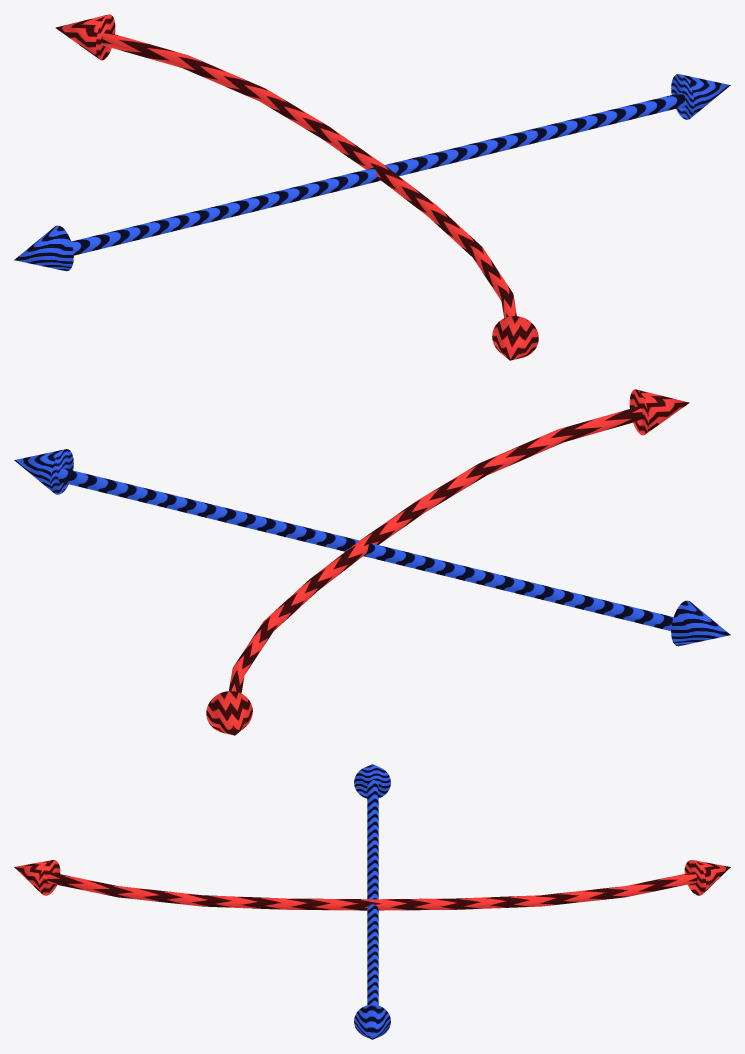
File: Spotlight_RedArrow_Lat.glb
The picture shows the model from 3 angles, top to bottom: view 1: azimuth 30°, elevation 25°; view 2: azimuth 150°, elevation 25°; view 3: azimuth 270°, elevation 25°; orthographic projection. The views are drawn at different scales.
Visible parts, largest first — view 1: Cylinder.041, Cylinder.012, Cone.021, Cone.023, Cone.025, Cone.006; view 2: Cylinder.041, Cylinder.012, Cone.021, Cone.006, Cone.025, Cone.023; view 3: Cylinder.012, Cylinder.041, Cone.025, Cone.023, Cone.006, Cone.021.
Part boxes in pixels (box(x1,y1,x2,y2)): Cylinder.041: box(71, 92, 686, 255); Cylinder.012: box(102, 31, 516, 317); Cone.021: box(14, 225, 73, 271); Cone.023: box(492, 316, 538, 360); Cone.025: box(671, 74, 730, 119); Cone.006: box(55, 14, 115, 60); Cylinder.041: box(58, 468, 673, 630); Cylinder.012: box(229, 406, 642, 693); Cone.021: box(671, 600, 730, 646); Cone.006: box(206, 691, 252, 735); Cone.025: box(14, 449, 73, 494); Cone.023: box(629, 389, 689, 435); Cylinder.012: box(47, 872, 697, 910); Cylinder.041: box(367, 780, 378, 1005); Cone.025: box(354, 1004, 390, 1039); Cone.023: box(14, 860, 60, 895); Cone.006: box(684, 860, 730, 895); Cone.021: box(354, 764, 390, 798).
Bounding box in the file's own units: 1.59 × 0.091 × 1.75.
3 materials, 3 textured.
